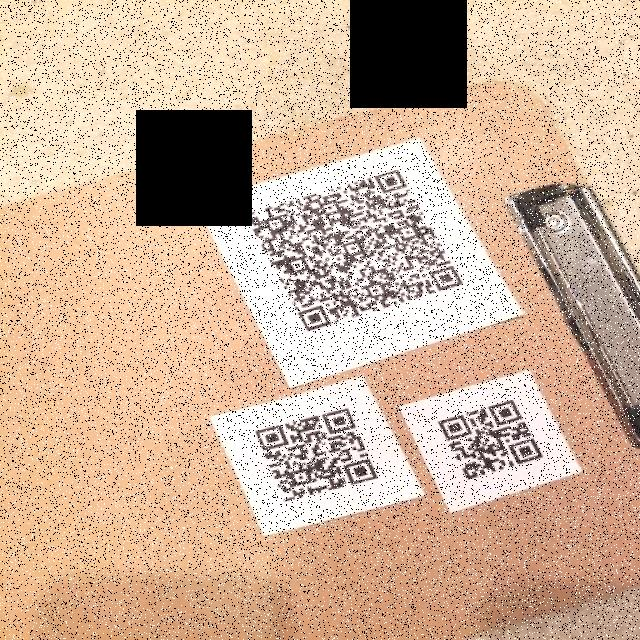QR_CODE: (236, 162, 475, 340), (242, 404, 392, 514), (428, 390, 562, 492)
